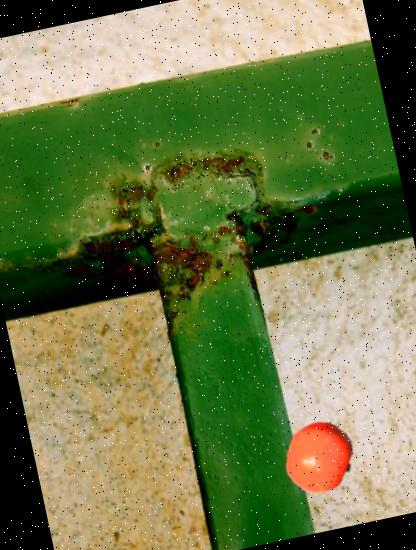Clementine: (276, 414, 364, 502)
